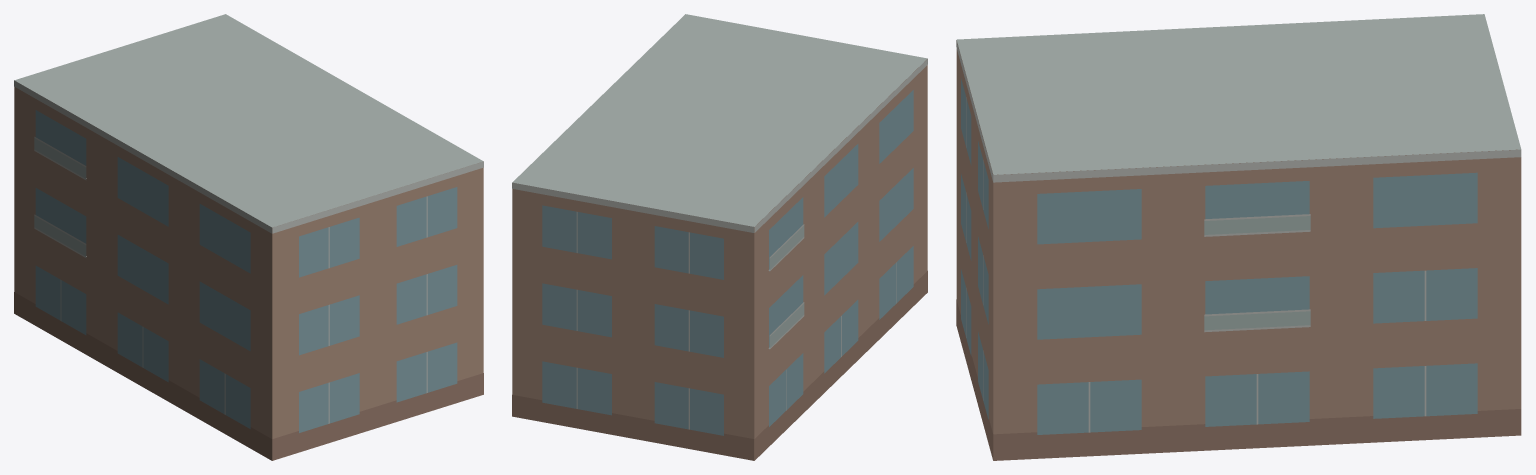
The model's file is survey-upis-32804433.glb.
3 views of the same model, side by side, from view 1: azimuth 30°, elevation 25°; view 2: azimuth 150°, elevation 25°; view 3: azimuth 270°, elevation 25° (orthographic). The views are drawn at different scales.
Parts seen in each view (by area): view 1: survey-upis-32804433.tmp; view 2: survey-upis-32804433.tmp; view 3: survey-upis-32804433.tmp.
Boxes of the visible parts, box(x1,y1,x2,y2) form: survey-upis-32804433.tmp: box(14, 14, 483, 460); survey-upis-32804433.tmp: box(512, 14, 927, 460); survey-upis-32804433.tmp: box(956, 14, 1521, 460).
Bounding box in the file's own units: 11.06 × 9.15 × 16.39.
